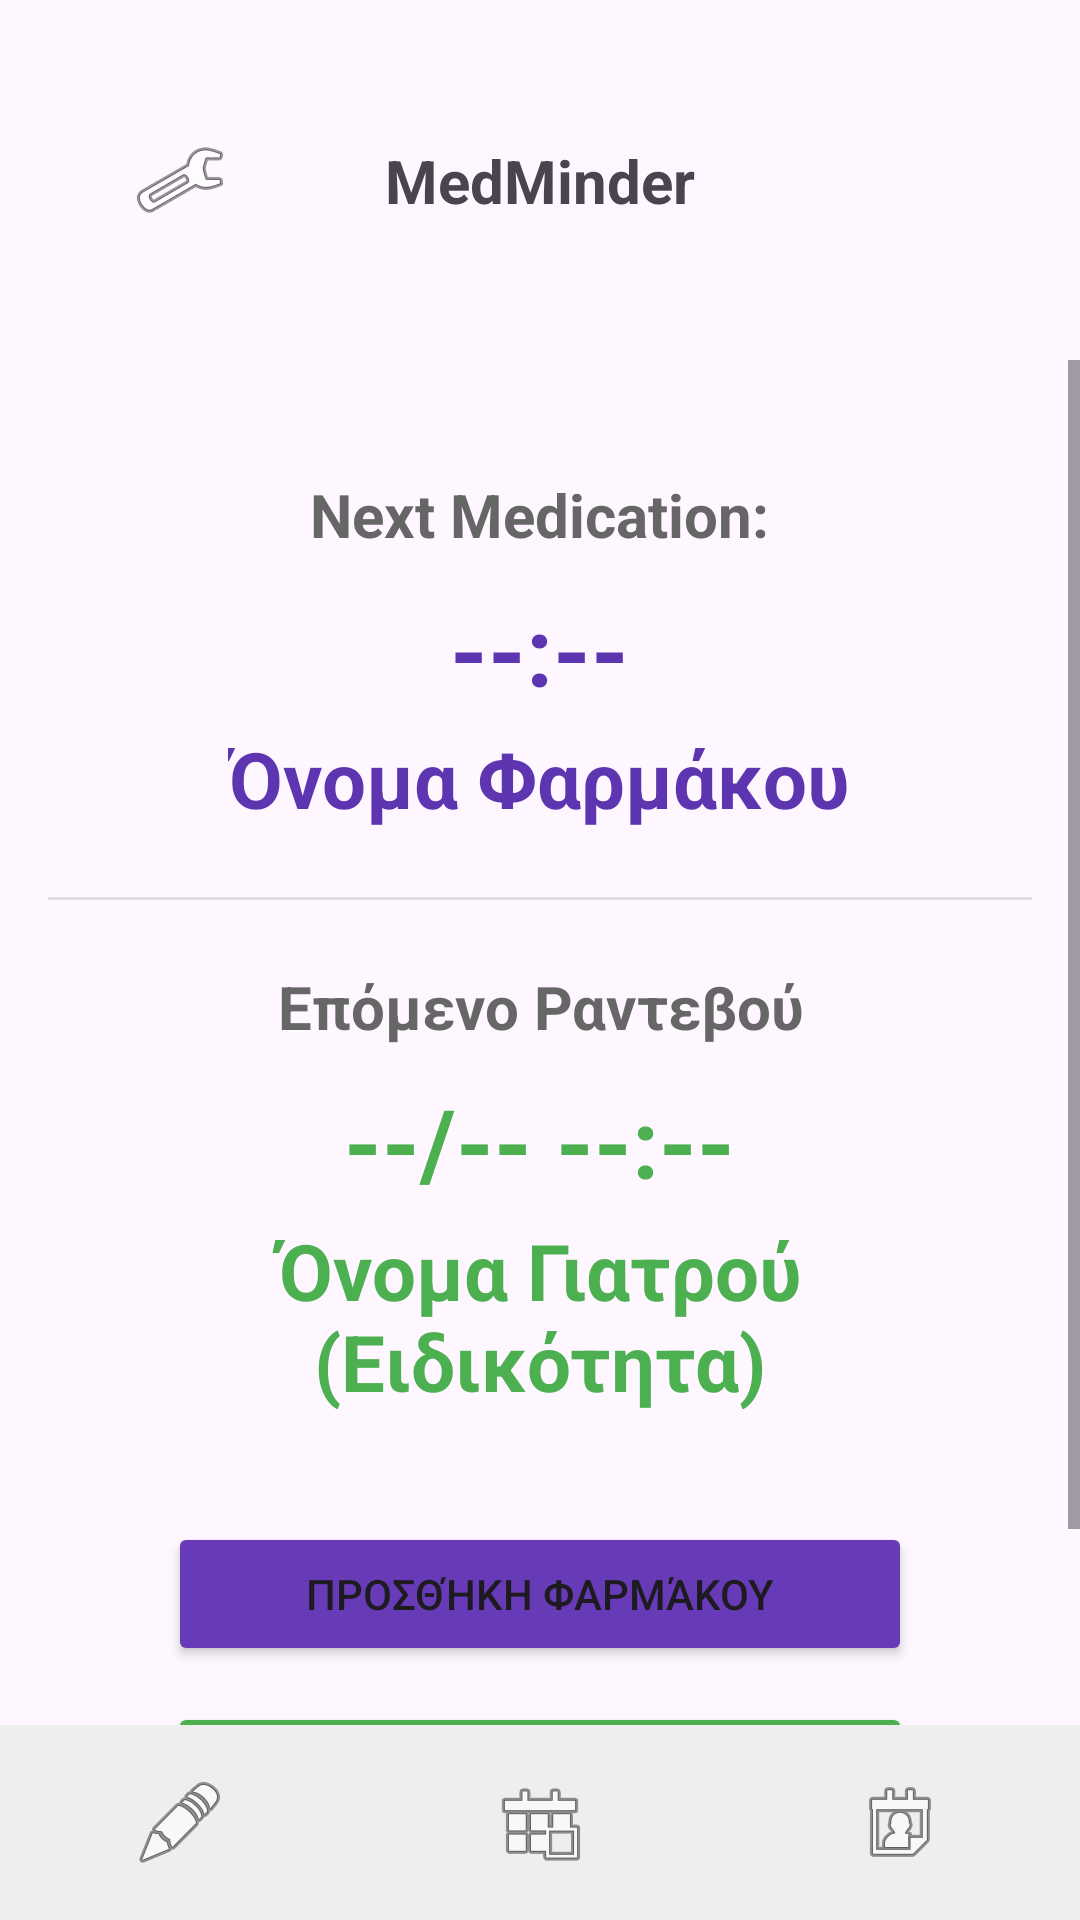

Named icons in this screenshot (1080×1920) and their bounding boxes, (x1, y1, x2, y2):
edit: (139, 1782, 220, 1863)
preferences: (137, 147, 223, 213)
